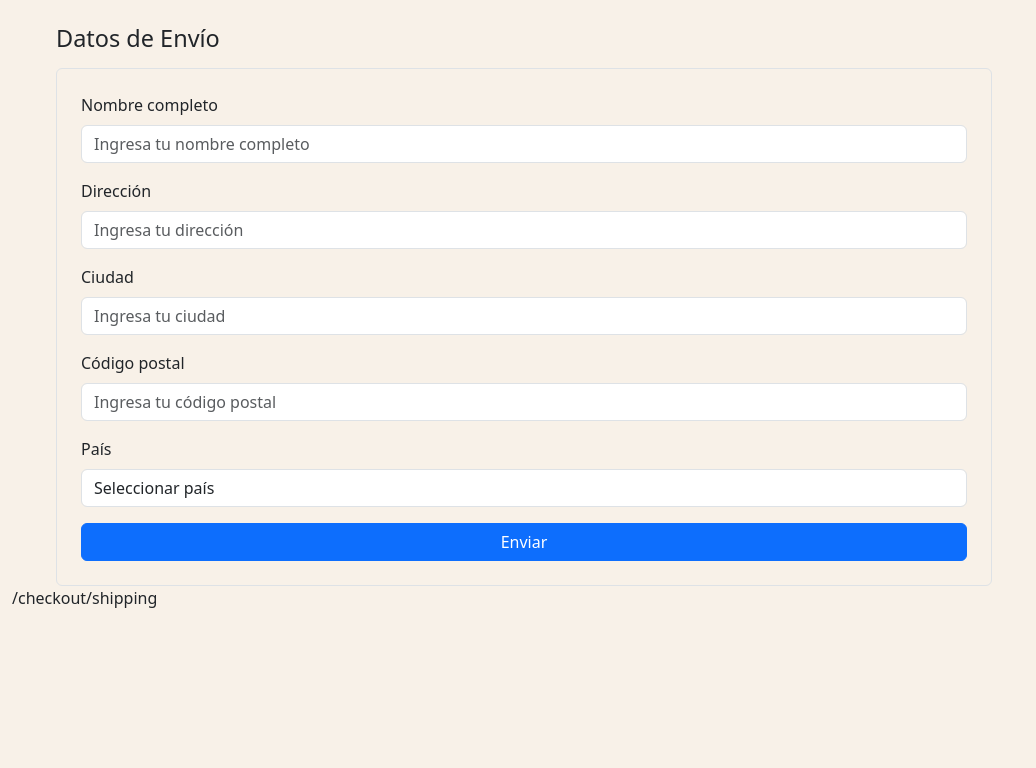
Test: ShippingForm › rechaza un código postal que no tiene 5 dígitos
In the field with placeholder "Ingresa tu nombre completo": coordinates (524, 144) 81,125 -> 967,163, type "Caro Mora"
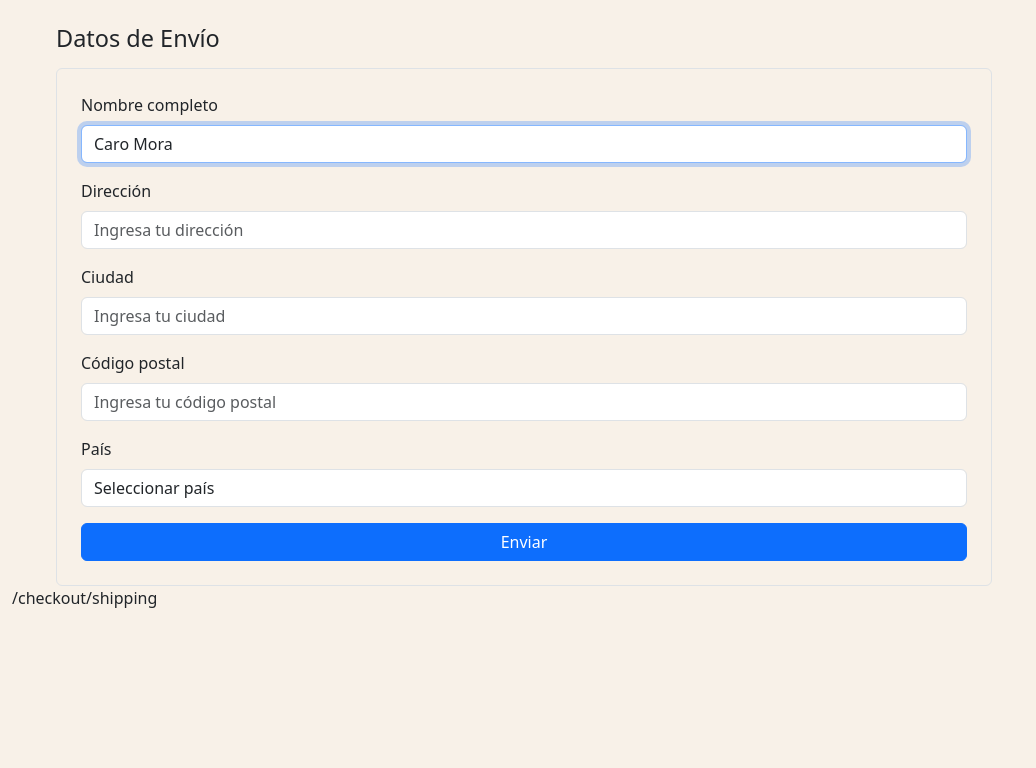
In the field with placeholder "Ingresa tu dirección": coordinates (524, 230) 81,211 -> 967,249, type "Calle 123"
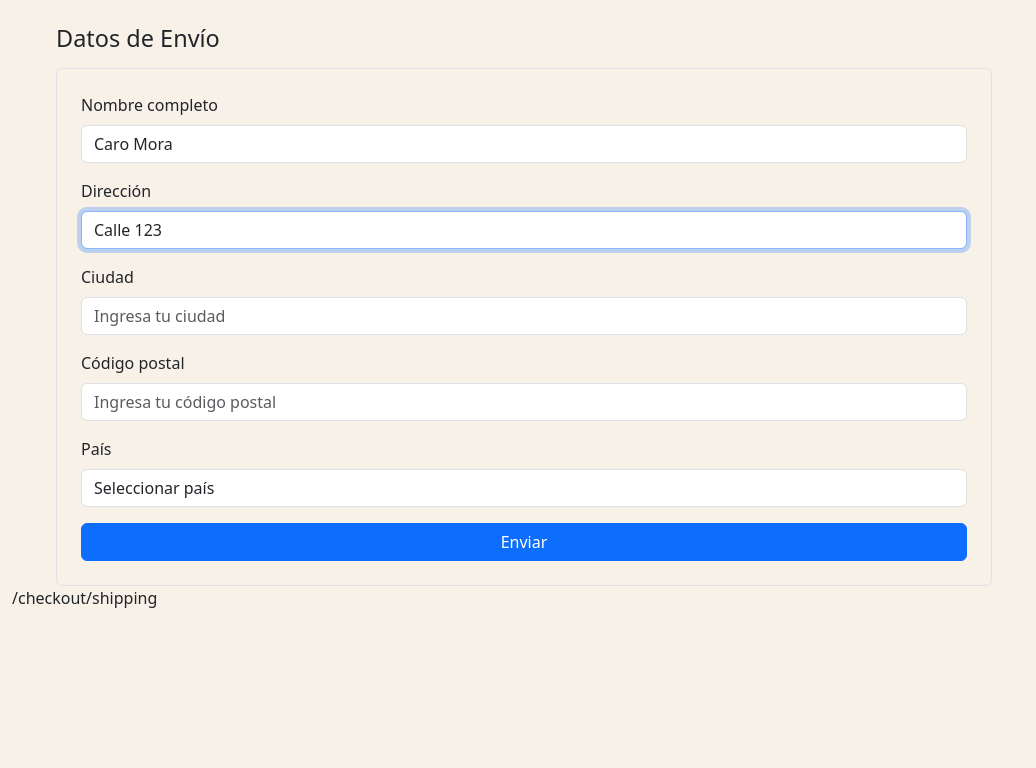
In the field with placeholder "Ingresa tu ciudad": coordinates (524, 316) 81,297 -> 967,335, type "Santiago"
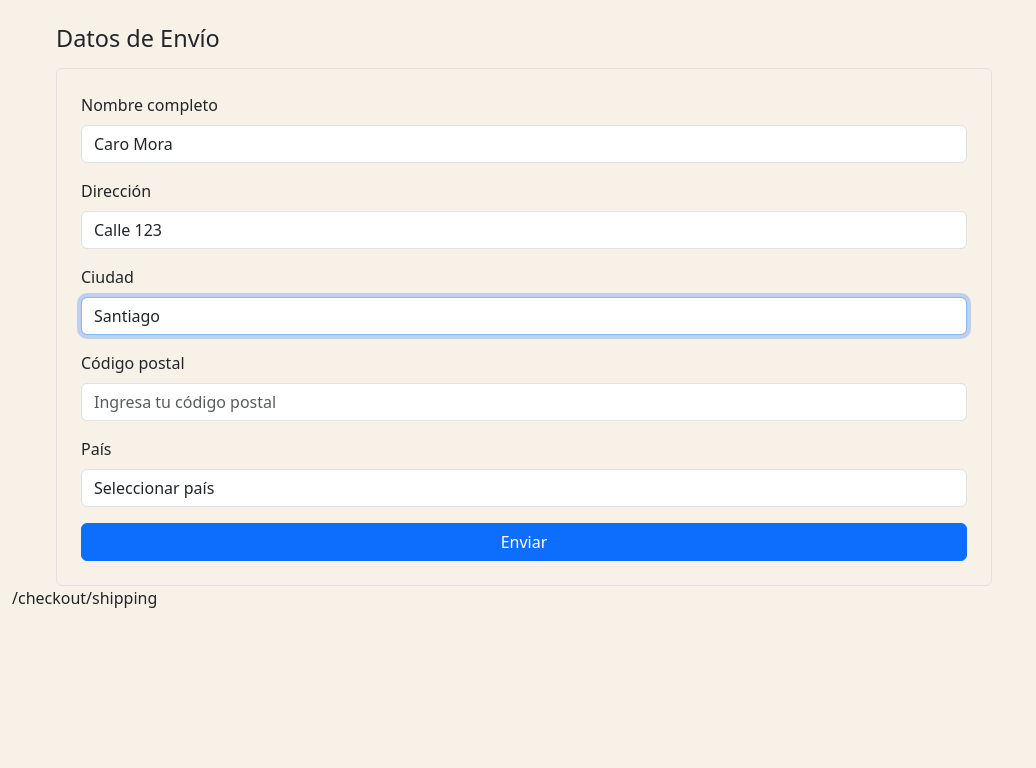
In the field with placeholder "Ingresa tu código postal": coordinates (524, 402) 81,383 -> 967,421, type "1234"
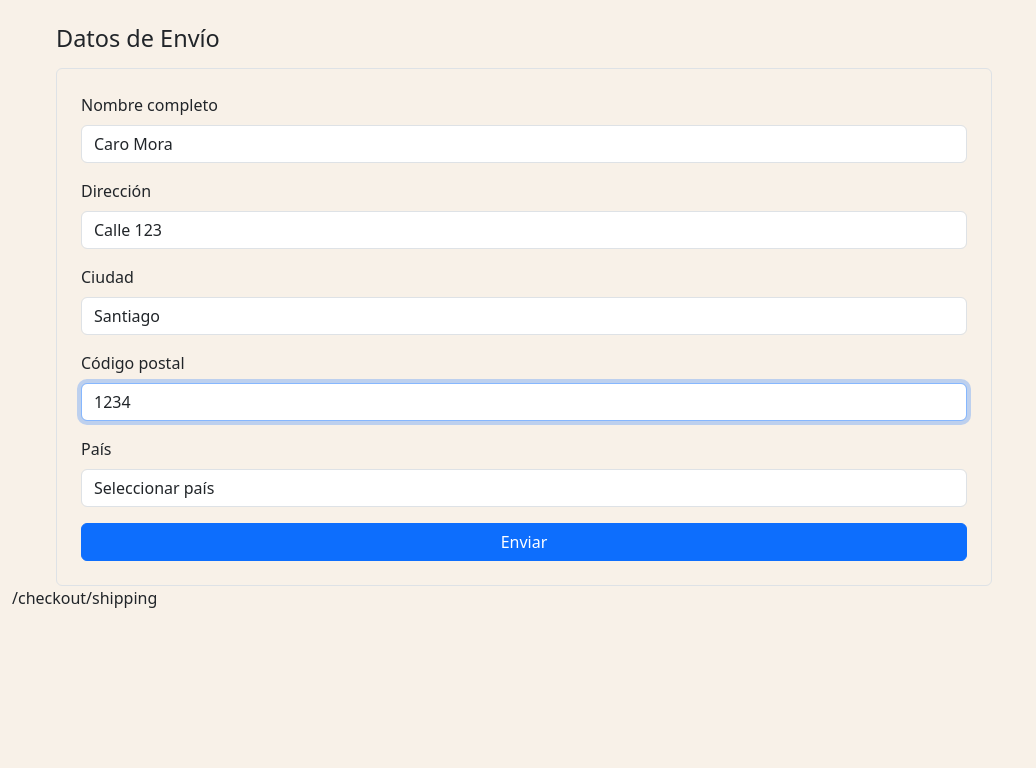
Select "Chile" in the dropdown: coordinates (524, 488) 81,469 -> 967,507
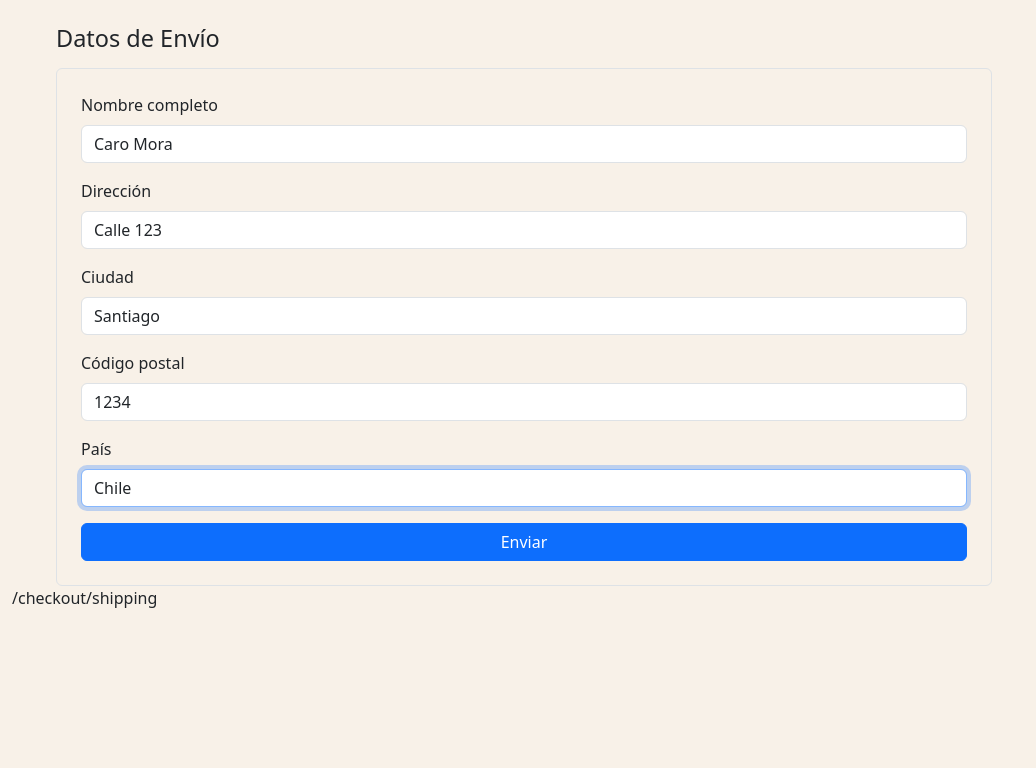
Click the button "Enviar": coordinates (524, 542) 81,523 -> 967,561
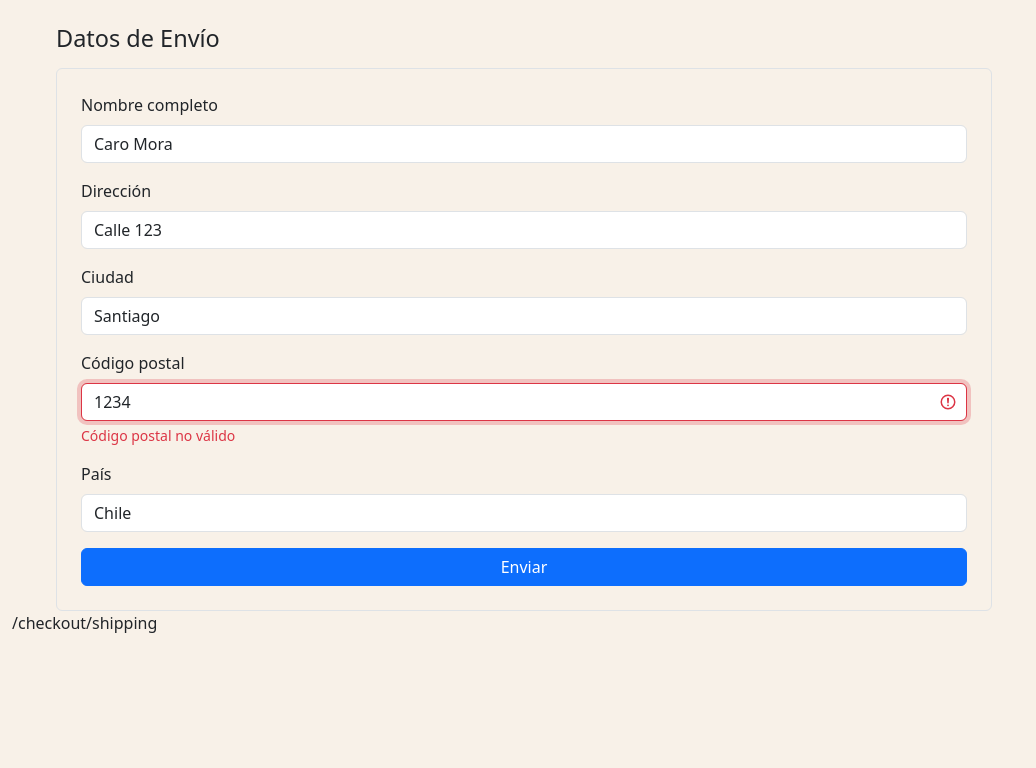
Expected: the text "Código postal no válido" is shown, 81,426 -> 235,445
